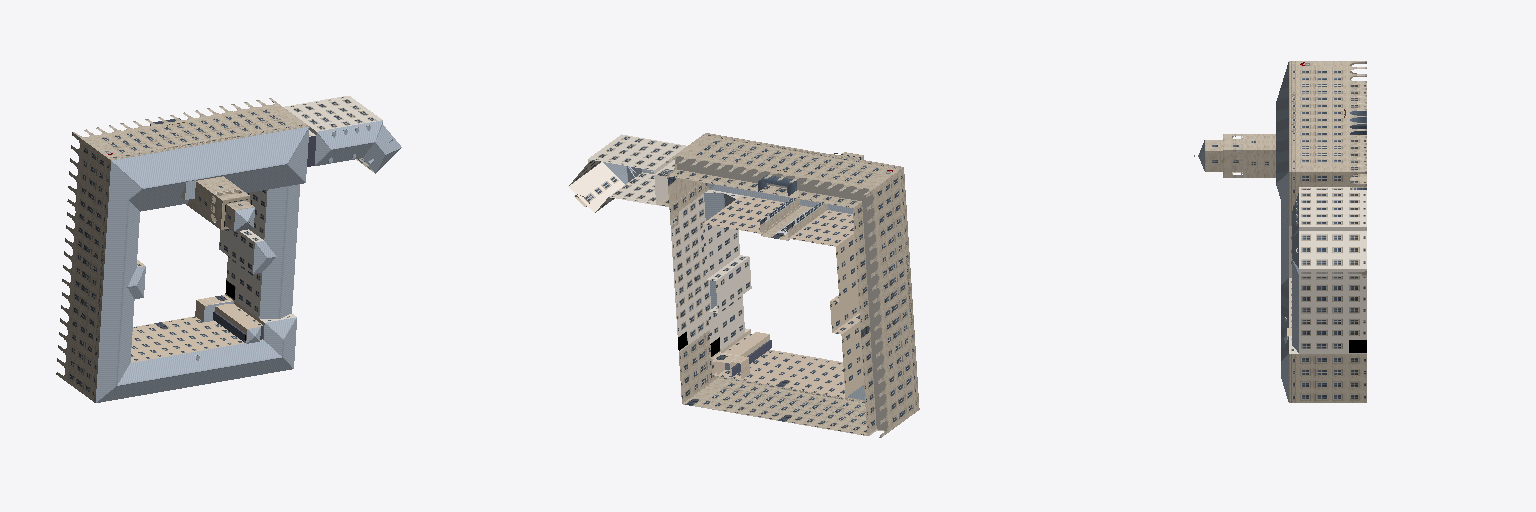
3 renders of one model, left to right at view 1: azimuth 30°, elevation 25°; view 2: azimuth 150°, elevation 25°; view 3: azimuth 270°, elevation 25°, orthographic.
Parts seen in each view (by area): view 1: S; view 2: S; view 3: S.
Part boxes in pixels (left/top/right/bottom): S: left=56, top=96, right=401, bottom=402; S: left=568, top=133, right=919, bottom=437; S: left=1194, top=61, right=1366, bottom=402.
Size of the model in its own units: 91.87 by 71.28 by 44.49.
1 materials, 1 textured.